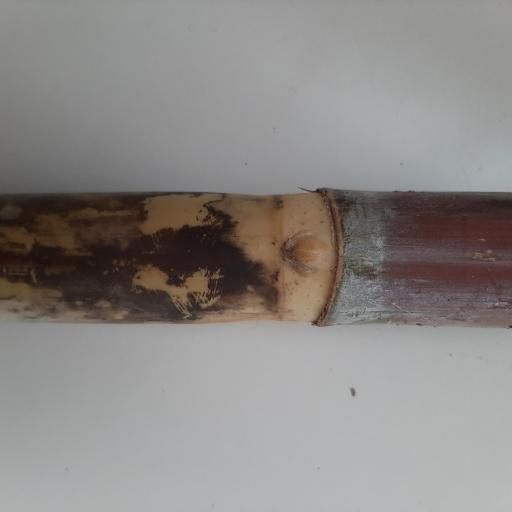Bud: (283, 232, 335, 275)
